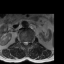CCS_normal: (24, 40, 26, 46)
LFS_stenosis: (29, 39, 30, 45)
LLS_normal: (26, 40, 28, 45)
RFS_stenosis: (21, 39, 23, 45)
RLS_normal: (23, 40, 24, 45)
